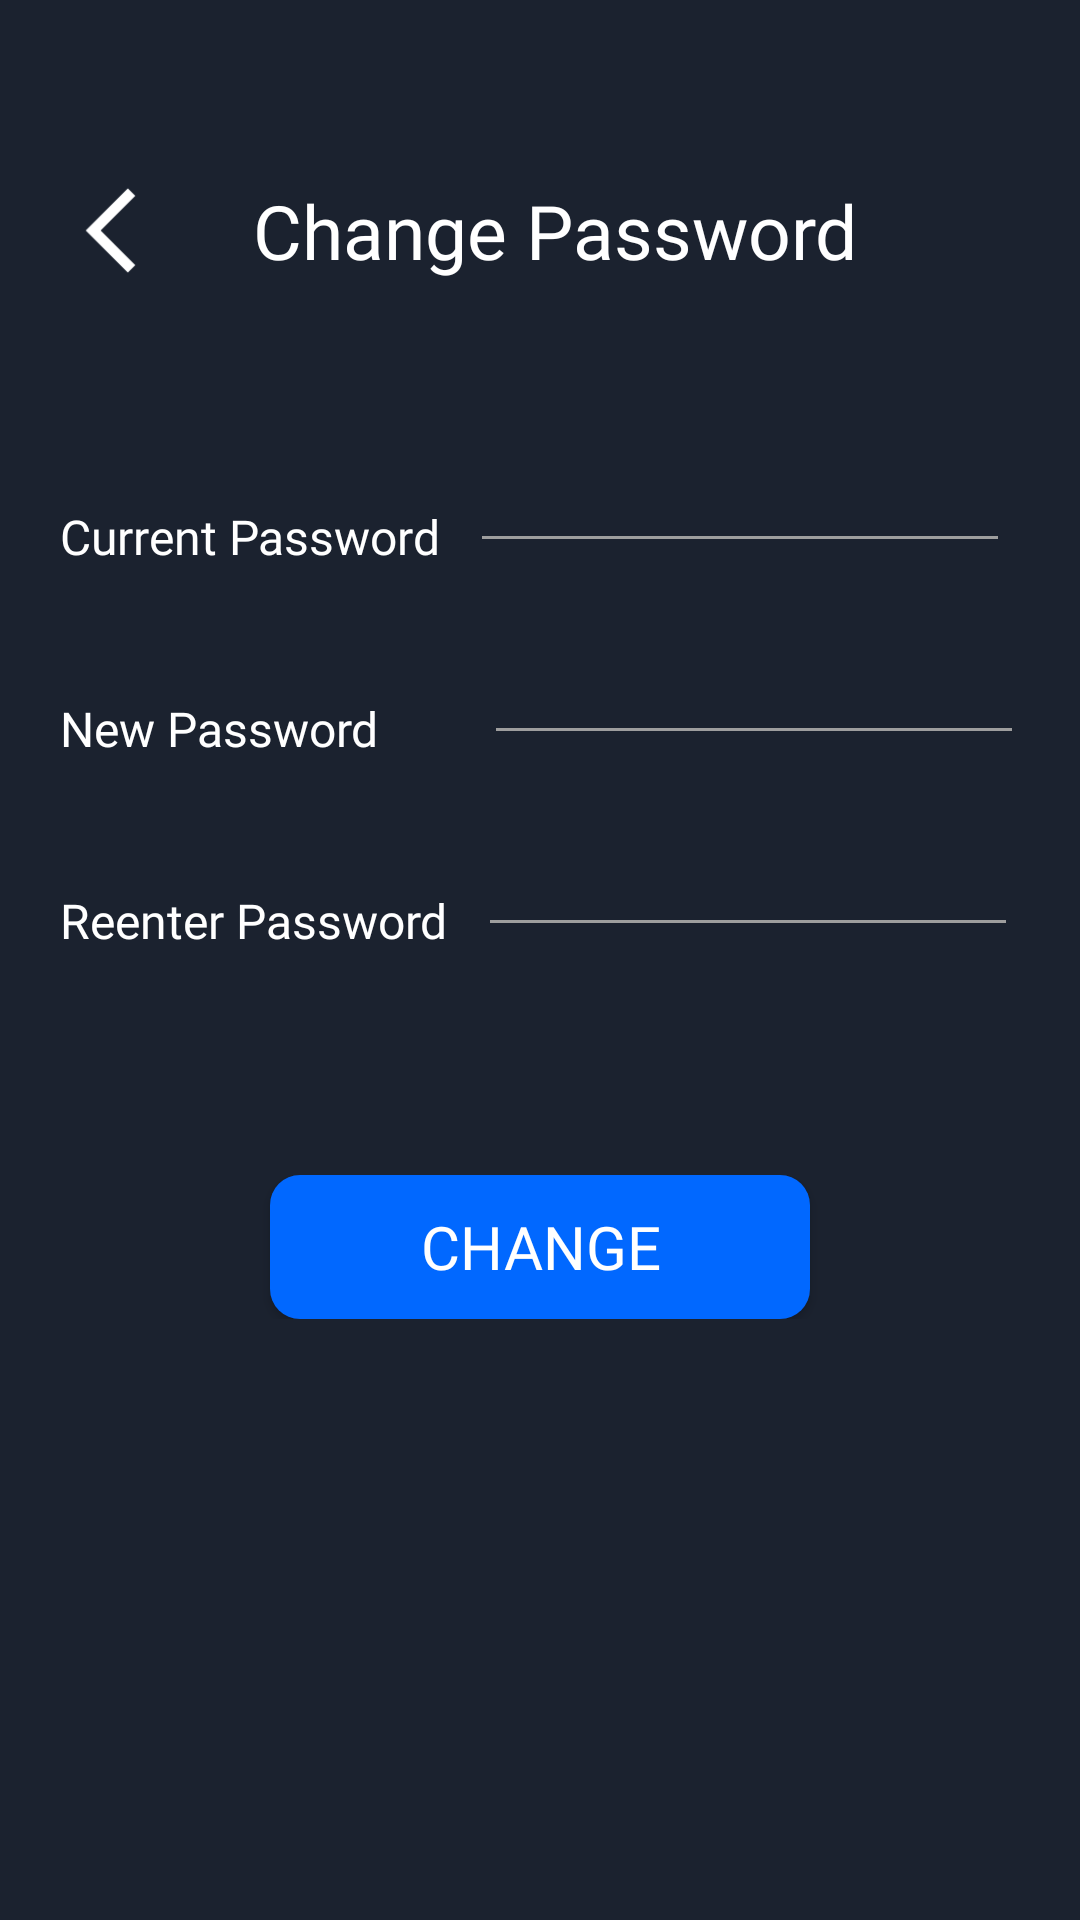

Locate icon controls on the screen. Image size 1080w x 1920h, boxes as [left=x1, top=y1, right=x2, bottom=y2].
back: [left=86, top=188, right=135, bottom=273]
